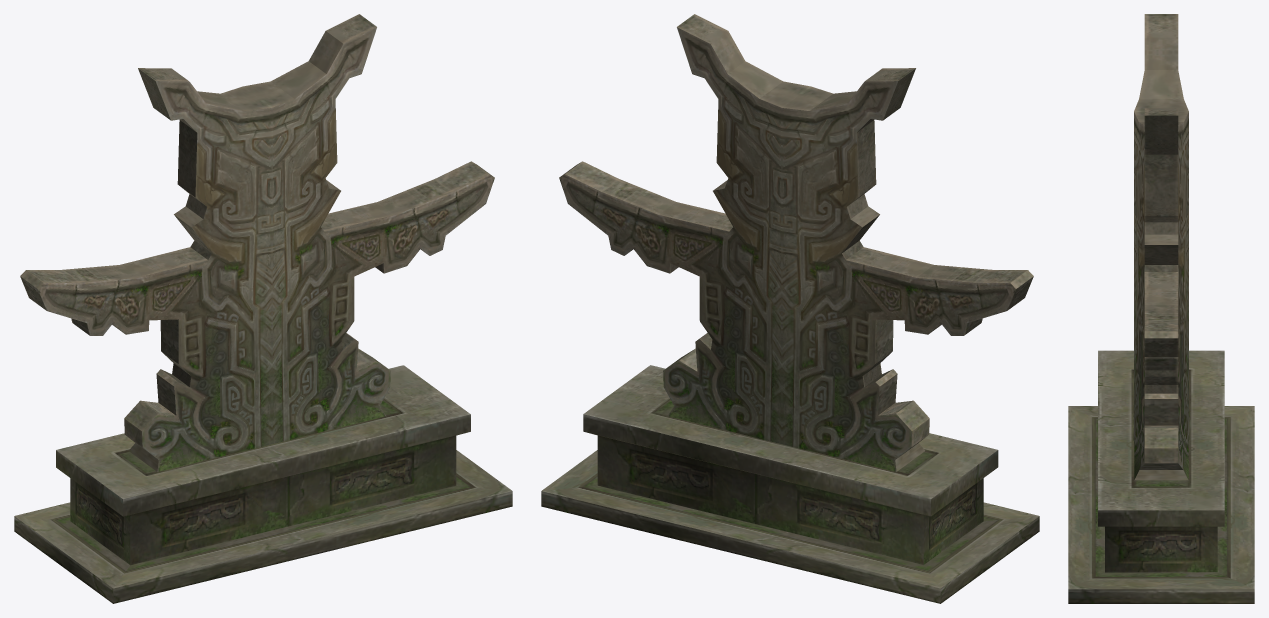
File: shidiao_jx_40.FBX
The picture shows the model from 3 angles, left to right: view 1: azimuth 30°, elevation 25°; view 2: azimuth 150°, elevation 25°; view 3: azimuth 270°, elevation 25°; orthographic projection. The views are drawn at different scales.
Visible parts, largest first — view 1: shidiao_jx_40; view 2: shidiao_jx_40; view 3: shidiao_jx_40.
Part boxes in pixels (<box>): shidiao_jx_40: <box>14,14,512,603</box>; shidiao_jx_40: <box>541,14,1039,603</box>; shidiao_jx_40: <box>1068,14,1254,603</box>.
Size of what is drawn, in the model's own units: 1151 by 1138 by 432.
